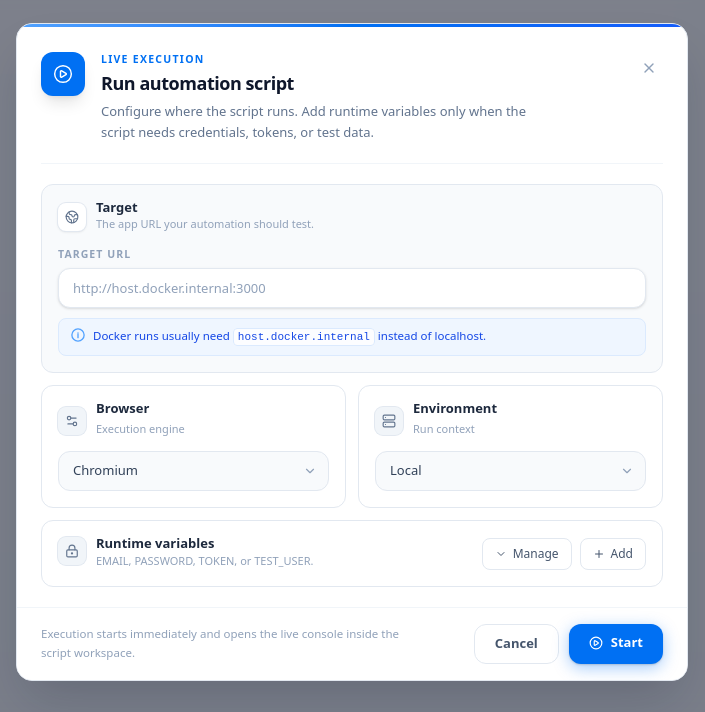
RunExecutionModal › shows active variable count when a variable key is provided
Expected: the heading "Run automation script" is shown, [101,71,294,95]
Click the button "Add".
click(613, 554)  # box [580,538,646,570]
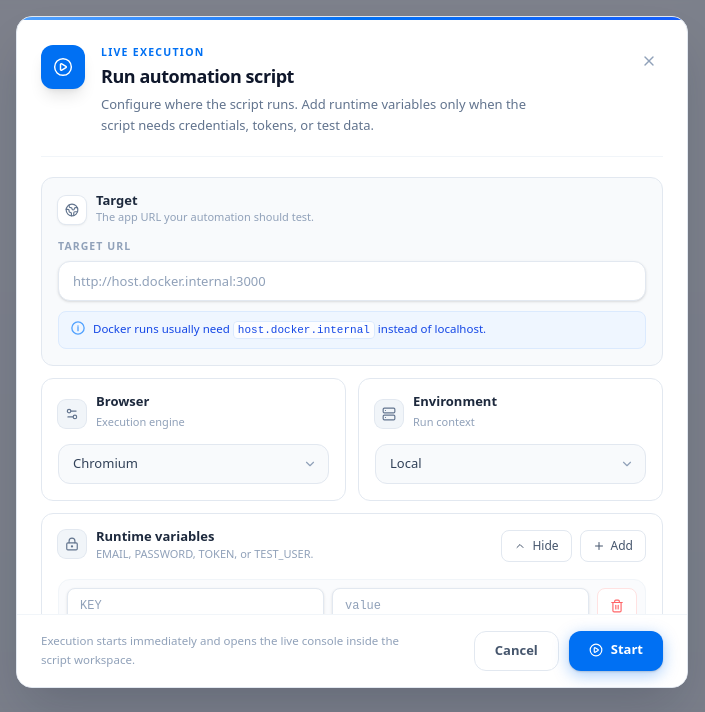
Type "TOKEN" into the field with placeholder "KEY".
click(196, 606); type("TOKEN")  # box [67,588,324,624]
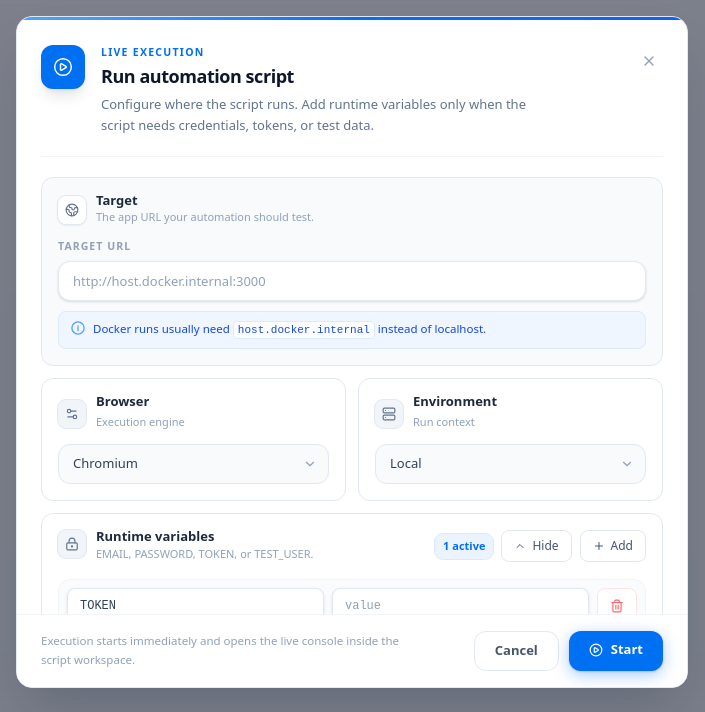
Expected: the text "1 active" is shown, [435,534,493,559]
